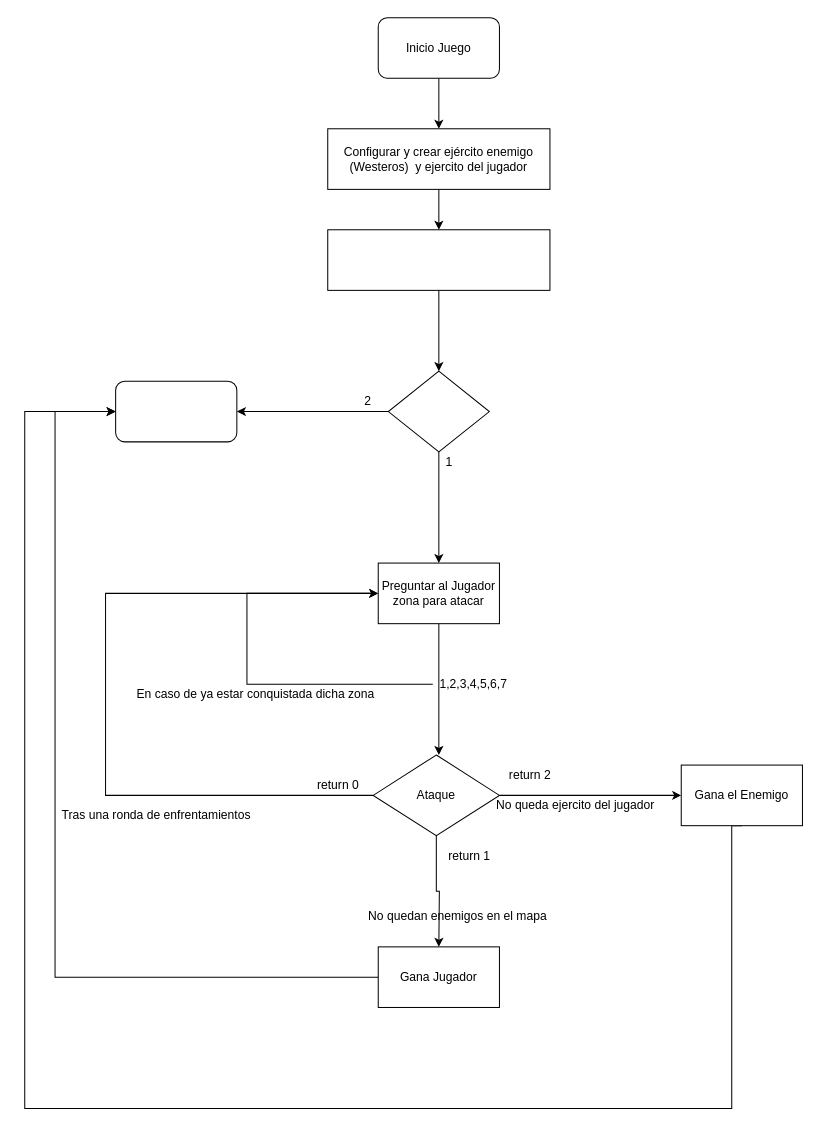
Image size: 820x1134. Some labels were removed from this diagram. Here are the shapes that lost their labels. From the top down, the centre of each, then its label:
At (438,259): "Añadir ejército enemigo a las distintas localizaciones del Mapa".
At (176,411): "End".
At (438,411): "Menu principal".
